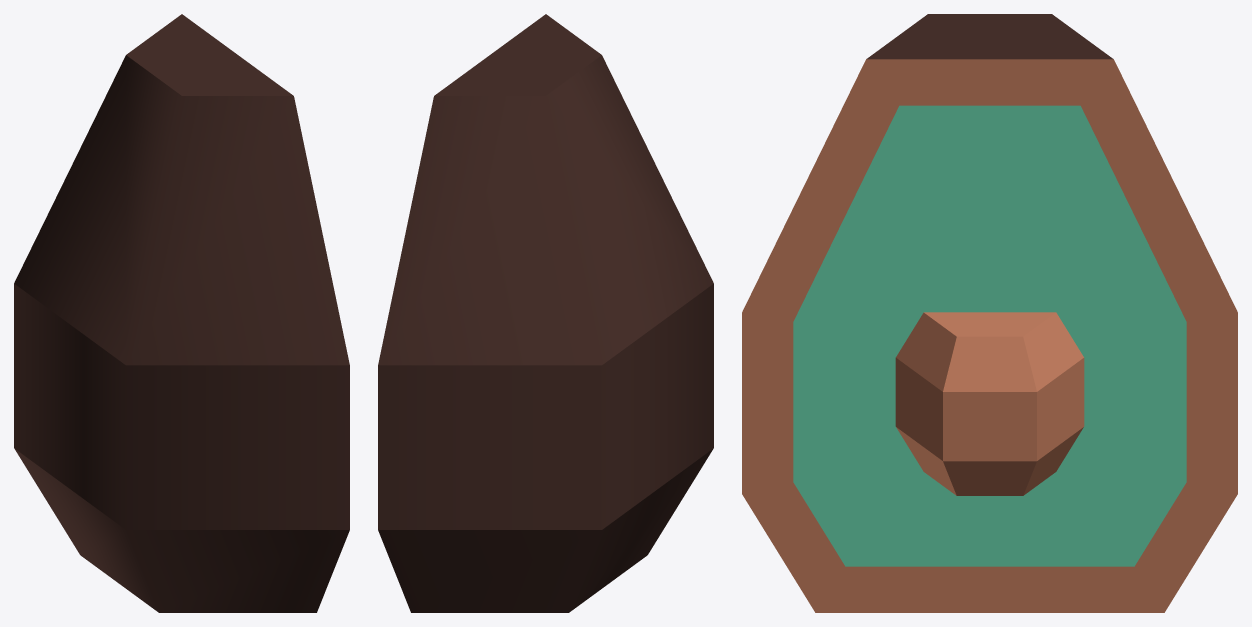
The model's file is avocadoHalf.obj.
3 views of the same model, side by side, from view 1: azimuth 30°, elevation 25°; view 2: azimuth 150°, elevation 25°; view 3: azimuth 270°, elevation 25° (orthographic). The views are drawn at different scales.
Parts seen in each view (by area): view 1: avocadoHalf; view 2: avocadoHalf; view 3: avocadoHalf, pit.
Boxes of the visible parts, x1=… form: avocadoHalf: x1=14, y1=14, x2=349, y2=612; avocadoHalf: x1=378, y1=14, x2=713, y2=612; avocadoHalf: x1=742, y1=14, x2=1237, y2=612; pit: x1=895, y1=312, x2=1084, y2=495.
Bounding box in the file's own units: 0.1036 × 0.2137 × 0.1734.
